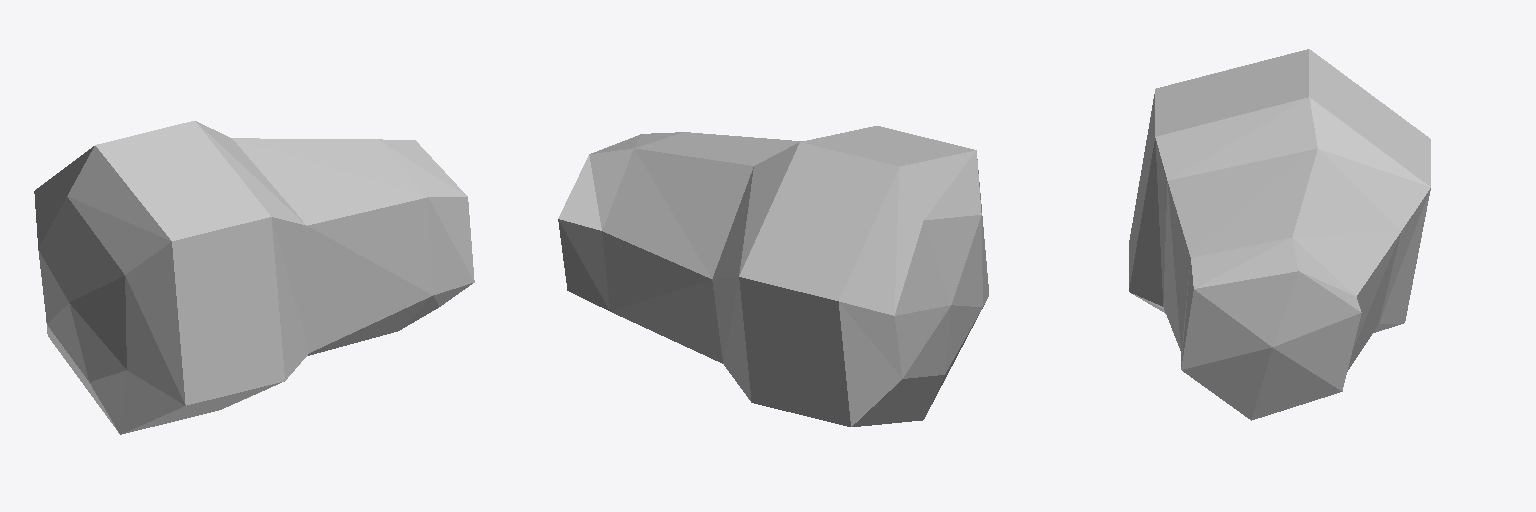
Rendered from MacmeshLeftArm1_leftArm1.obj.
The picture shows the model from 3 angles: view 1: azimuth 30°, elevation 25°; view 2: azimuth 150°, elevation 25°; view 3: azimuth 270°, elevation 25°; orthographic projection.
Visible parts, largest first — view 1: node_Scene_134_mesh_mesh0; view 2: node_Scene_134_mesh_mesh0; view 3: node_Scene_134_mesh_mesh0.
Boxes of the visible parts, x1=… form: node_Scene_134_mesh_mesh0: x1=34, y1=121, x2=474, y2=434; node_Scene_134_mesh_mesh0: x1=558, y1=126, x2=988, y2=426; node_Scene_134_mesh_mesh0: x1=1129, y1=49, x2=1430, y2=420.
Size of the model in its own units: 0.3259 by 0.2291 by 0.2305.